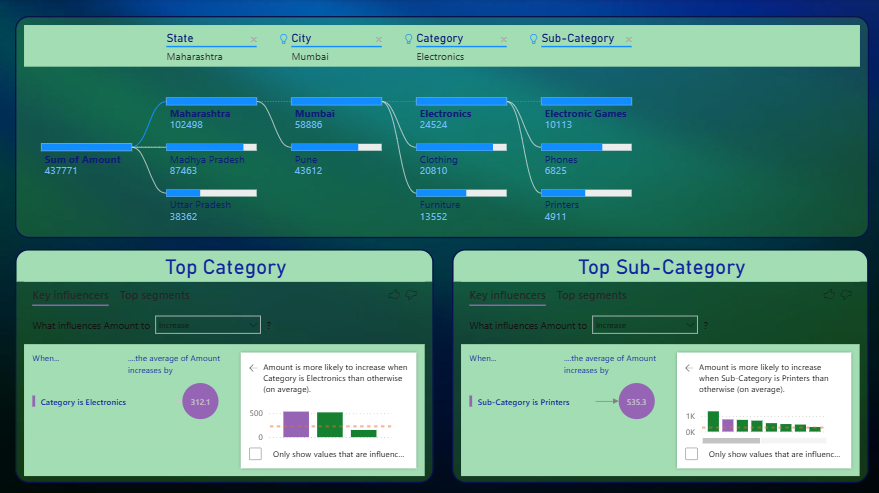

The page's visual inventory and layout, read from the dashboard file:
{"tool":"powerbi","page":{"name":"Page 3","canvas":[1280,720],"ordinal":2},"visuals":[{"type":"decompositionTreeVisual","fields":{"Analyze":["Sum(Details.Amount)"],"ExplainBy":["Orders.State","Orders.City","Details.Category","Details.Sub-Category"]},"box":[24.5,24.5,1229.8,319.7],"z":0},{"type":"keyDriversVisual","title":"Top Category","fields":{"Target":["Details.Amount"],"ExplainBy":["Details.Category"]},"box":[24.5,360,603.4,337],"z":1000},{"type":"keyDriversVisual","title":"Top Sub-Category","fields":{"Target":["Details.Amount"],"ExplainBy":["Details.Sub-Category"]},"box":[653.8,360,600.5,337],"z":1001}]}

Visuals, with their boxes in screenshot pixels (x1, y1, x2, y2), scaled from the page's 1280x720 canvas onto the 879x493 screenshot:
decompositionTreeVisual - Sum(Details.Amount) x Orders.State: box(17, 17, 861, 236)
"Top Category" keyDriversVisual: box(17, 246, 431, 477)
"Top Sub-Category" keyDriversVisual: box(449, 246, 861, 477)
